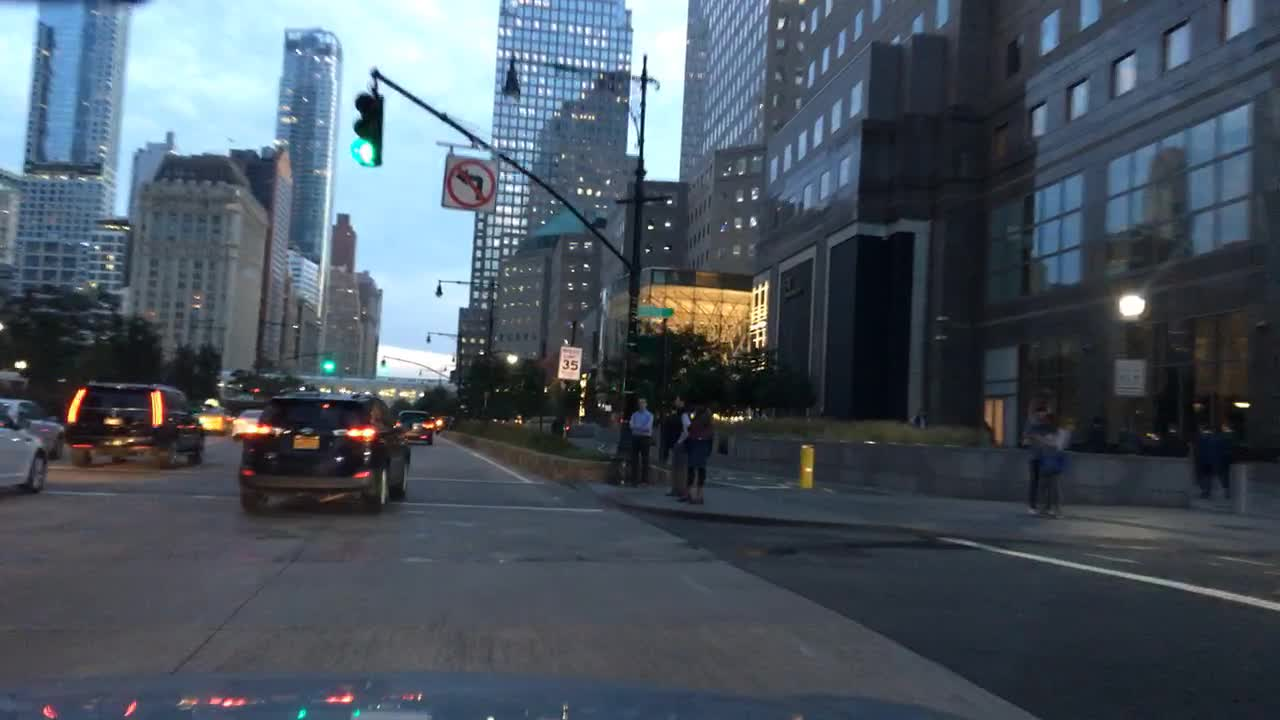car: (237, 389, 413, 517), (62, 381, 205, 468), (0, 394, 70, 462), (0, 404, 50, 494), (189, 397, 237, 437), (394, 409, 436, 445), (229, 406, 267, 443), (440, 413, 457, 428), (431, 417, 446, 433), (491, 416, 506, 424), (514, 413, 525, 423)
person: (1027, 408, 1073, 518), (673, 395, 718, 505), (1017, 405, 1055, 515), (1205, 398, 1247, 496), (1187, 398, 1217, 498), (626, 395, 654, 486), (666, 398, 692, 496), (656, 405, 680, 465), (1082, 415, 1111, 454), (1114, 424, 1142, 455), (909, 404, 929, 429), (550, 412, 568, 435)
traffic light: (347, 88, 384, 164), (319, 354, 334, 372)
traffic sign: (441, 151, 500, 211), (1111, 359, 1148, 397), (557, 343, 583, 380), (632, 302, 674, 320)
